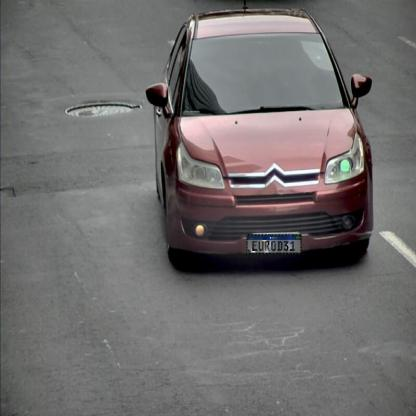PlacaM: (246, 234, 302, 254)
